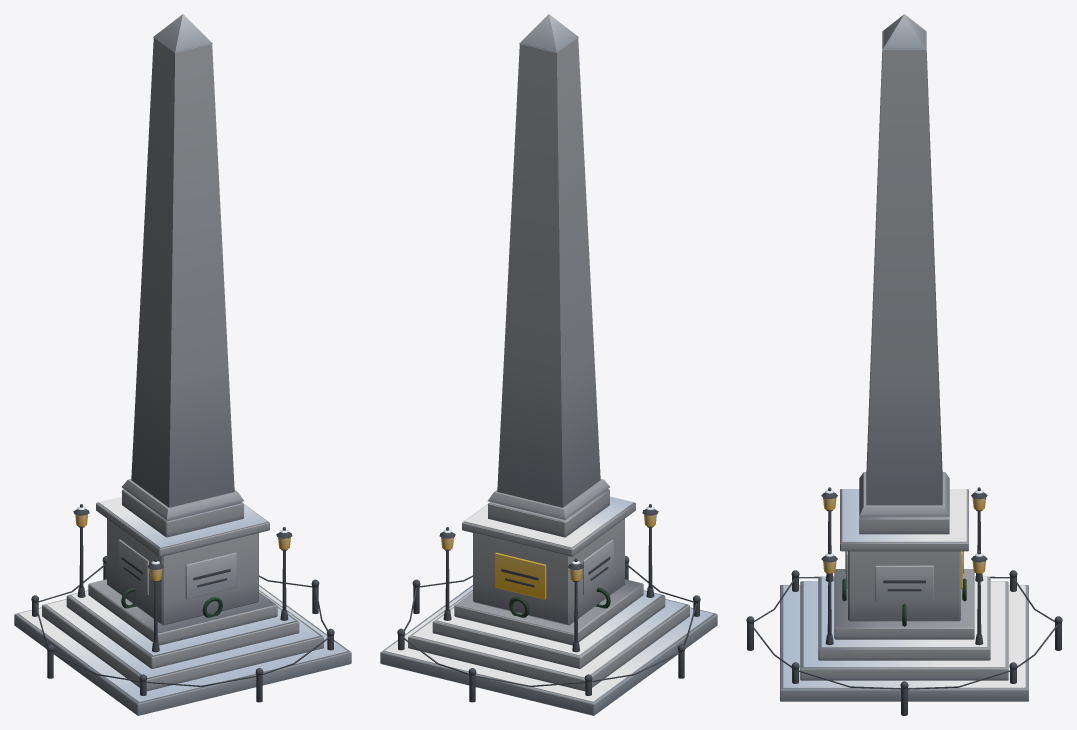
File: ck_landmark_obelisk.fbx
3 views of the same model, side by side, from view 1: azimuth 30°, elevation 25°; view 2: azimuth 150°, elevation 25°; view 3: azimuth 270°, elevation 25° (orthographic).
Visible parts, largest first — view 1: ck_landmark_obelisk; view 2: ck_landmark_obelisk; view 3: ck_landmark_obelisk.
Part boxes in pixels (x1=…): ck_landmark_obelisk: x1=14, y1=14, x2=351, y2=715; ck_landmark_obelisk: x1=380, y1=14, x2=717, y2=715; ck_landmark_obelisk: x1=746, y1=14, x2=1062, y2=715.
Size of the model in its own units: 2703 by 6000 by 2706.
